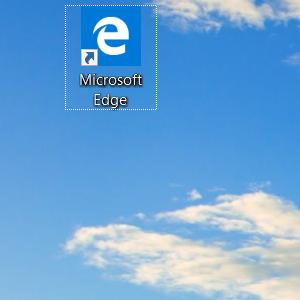edge: (81, 6, 141, 66)
